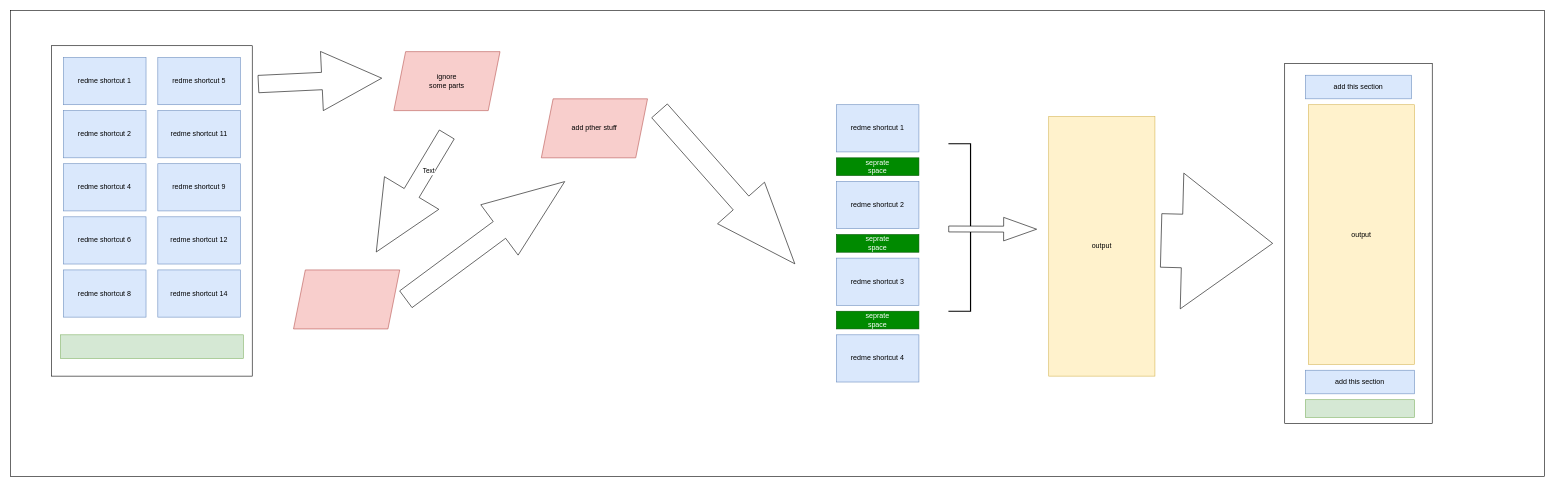
This 1555x487 diagram has some shape labels left out. Each missing label, with the centre of its shape:
last time: (1360,408)
re-orgnize by number: (346,299)
small software builder: (151,346)
